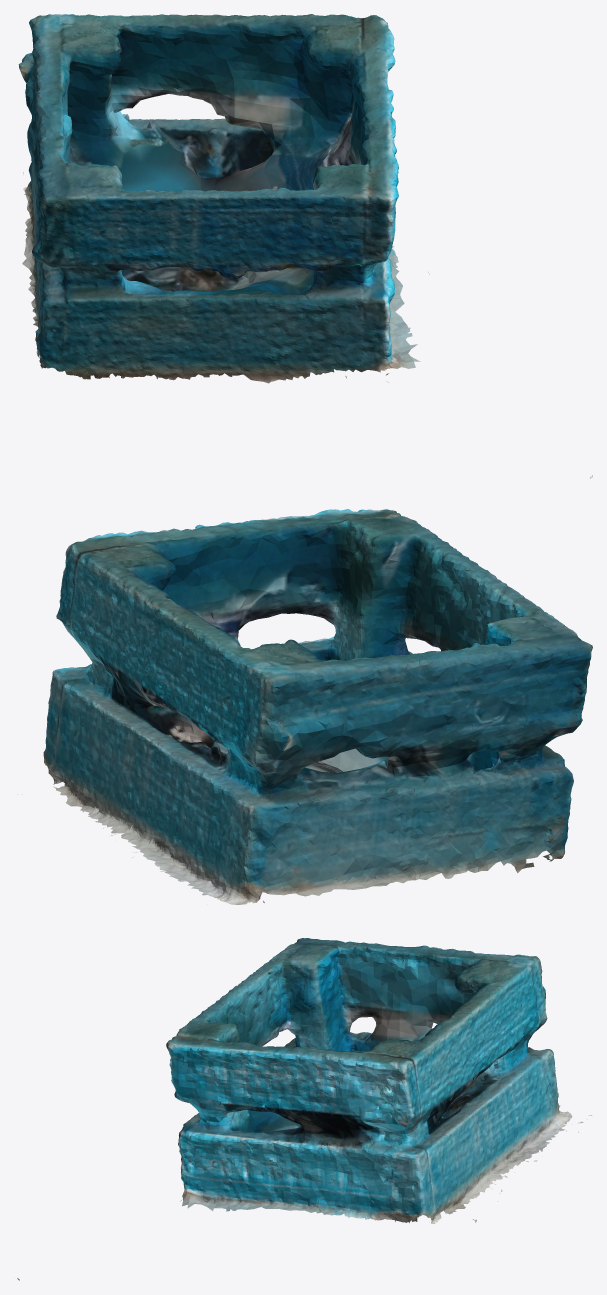
Rendered from prac8.glb.
3 renders of one model, top to bottom at view 1: azimuth 30°, elevation 25°; view 2: azimuth 150°, elevation 25°; view 3: azimuth 270°, elevation 25°, orthographic. The views are drawn at different scales.
Size of the model in its own units: 10.89 by 7.11 by 16.13.
Materials: 1 (1 with a texture image).
